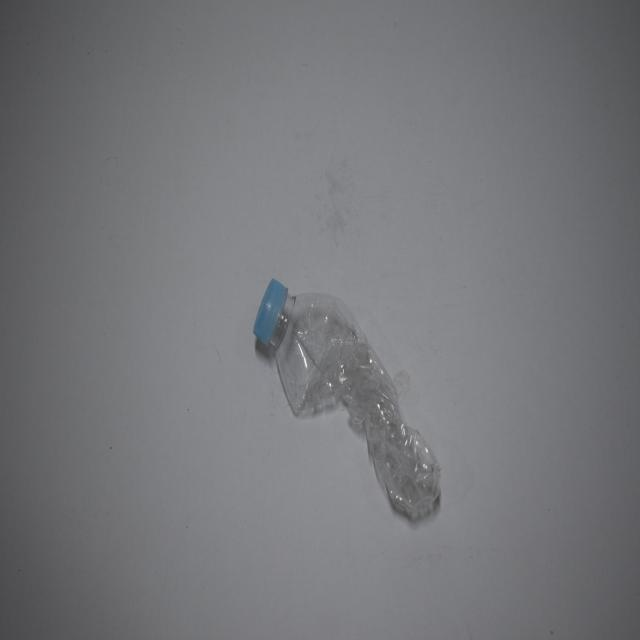bottle: (250, 232, 455, 532)
